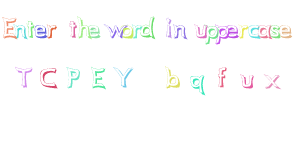C: (38, 66, 59, 88)
E: (1, 14, 18, 40), (89, 66, 108, 89)
P: (65, 66, 81, 89)
T: (14, 65, 33, 88)
Y: (112, 67, 134, 88)
a: (258, 24, 271, 40)
b: (162, 66, 180, 90)
c: (248, 23, 260, 41)
d: (140, 15, 157, 39)
e: (226, 23, 239, 40), (88, 22, 100, 40), (34, 22, 46, 39), (279, 25, 292, 40)
f: (216, 65, 228, 88)
h: (78, 15, 91, 40)
i: (164, 16, 174, 40)
n: (173, 23, 187, 40), (13, 24, 27, 40)
o: (120, 23, 133, 40)
p: (215, 24, 228, 46), (205, 23, 217, 46)
q: (189, 73, 206, 95)
r: (131, 22, 143, 40), (46, 22, 57, 40), (238, 23, 249, 40)
s: (269, 24, 281, 40)
t: (67, 17, 77, 40), (26, 20, 36, 39)
u: (239, 72, 255, 90), (193, 22, 208, 39)
w: (103, 21, 123, 40)
x: (263, 73, 281, 90)
